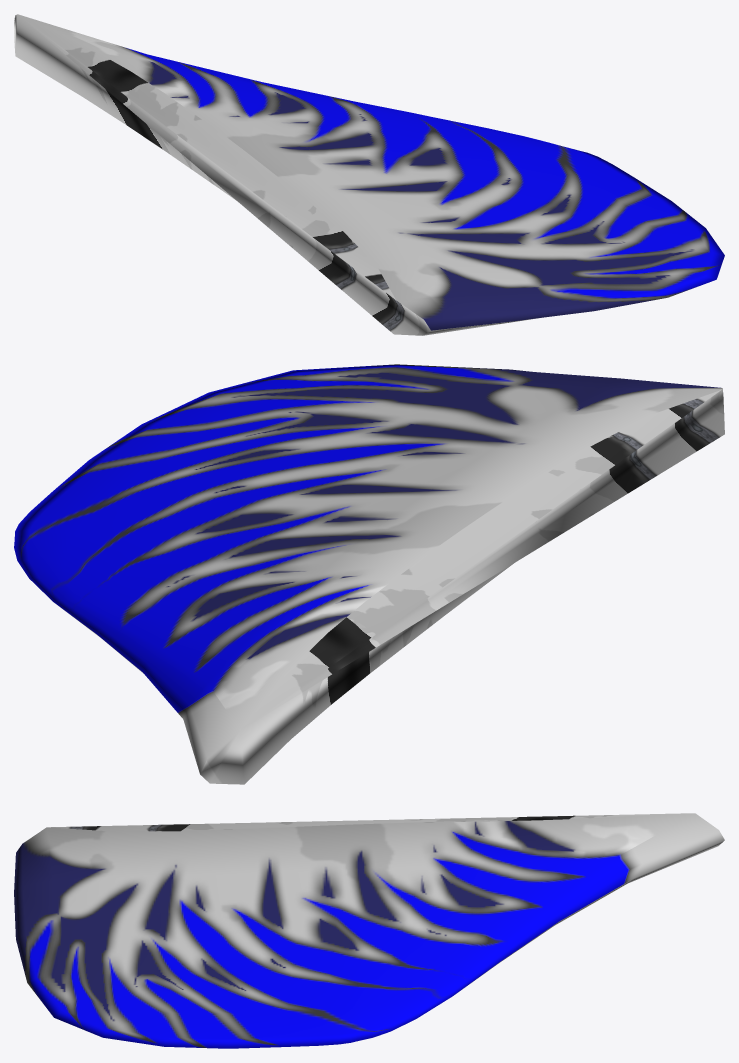
The model's file is FighterDestructionPart4.fbx.
The picture shows the model from 3 angles, top to bottom: view 1: azimuth 30°, elevation 25°; view 2: azimuth 150°, elevation 25°; view 3: azimuth 270°, elevation 25°; orthographic projection. The views are drawn at different scales.
Visible parts, largest first — view 1: polySurface1; view 2: polySurface1; view 3: polySurface1.
Part boxes in pixels (x1,y1,x2,y2): polySurface1: (14,14,724,335); polySurface1: (14,364,724,784); polySurface1: (14,813,724,1048).
Bounding box in the file's own units: 4.79 × 1.04 × 8.78.
Materials: 1 (1 with a texture image).
